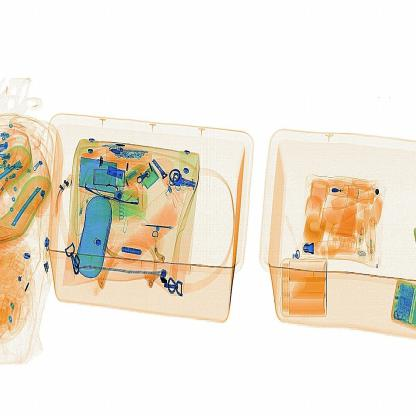wrench: (134, 218, 180, 240)
